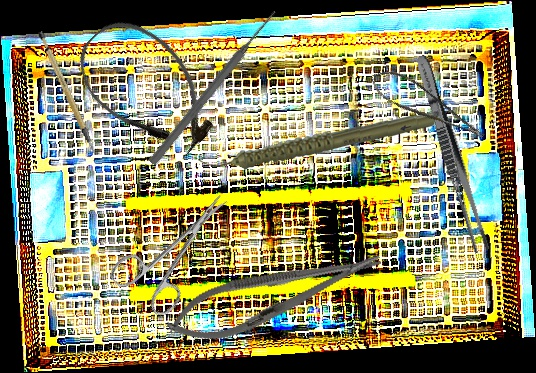Cannula: (61, 3, 233, 175)
Dressing Forceps: (410, 52, 494, 255)
Handpiece: (197, 101, 436, 179)
Iris Scissors: (105, 174, 253, 325)
Micro Scissor: (365, 59, 488, 158)
Needle Holder: (161, 235, 389, 355)
Pusher: (147, 7, 280, 168)
Scalpel Handle: (36, 26, 97, 161)
